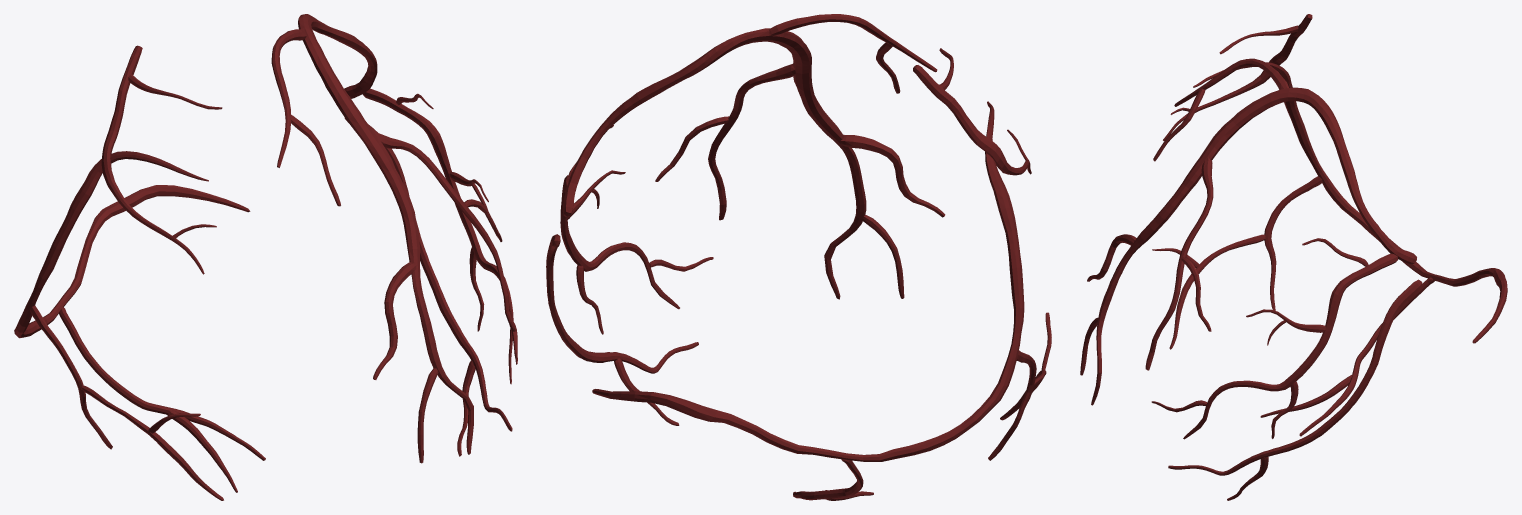
The model's file is arterias coronarias.FBX.
3 renders of one model, left to right at view 1: azimuth 30°, elevation 25°; view 2: azimuth 150°, elevation 25°; view 3: azimuth 270°, elevation 25°, orthographic. The views are drawn at different scales.
Visible parts, largest first — view 1: CS_Heart_6; view 2: CS_Heart_6; view 3: CS_Heart_6.
Part boxes in pixels (<box>): CS_Heart_6: <box>14,14,517,500</box>; CS_Heart_6: <box>546,14,1051,500</box>; CS_Heart_6: <box>1080,14,1507,500</box>.
Bounding box in the file's own units: 18.7 × 18.3 × 18.92.
